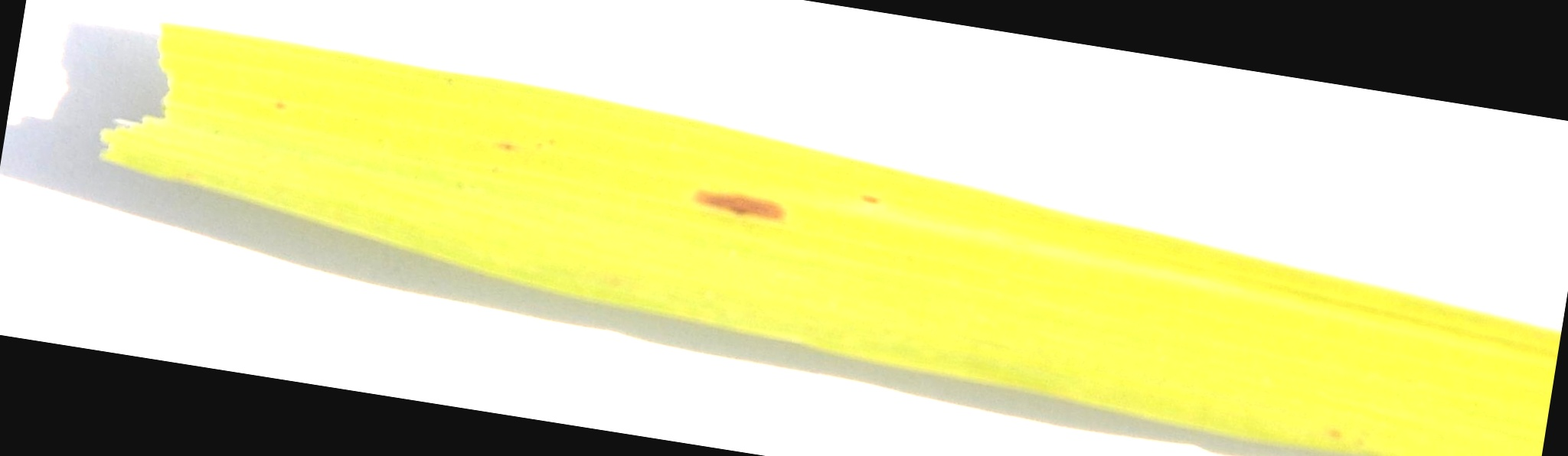Bacterial_Leaf_Blight: (665, 182, 822, 218)
